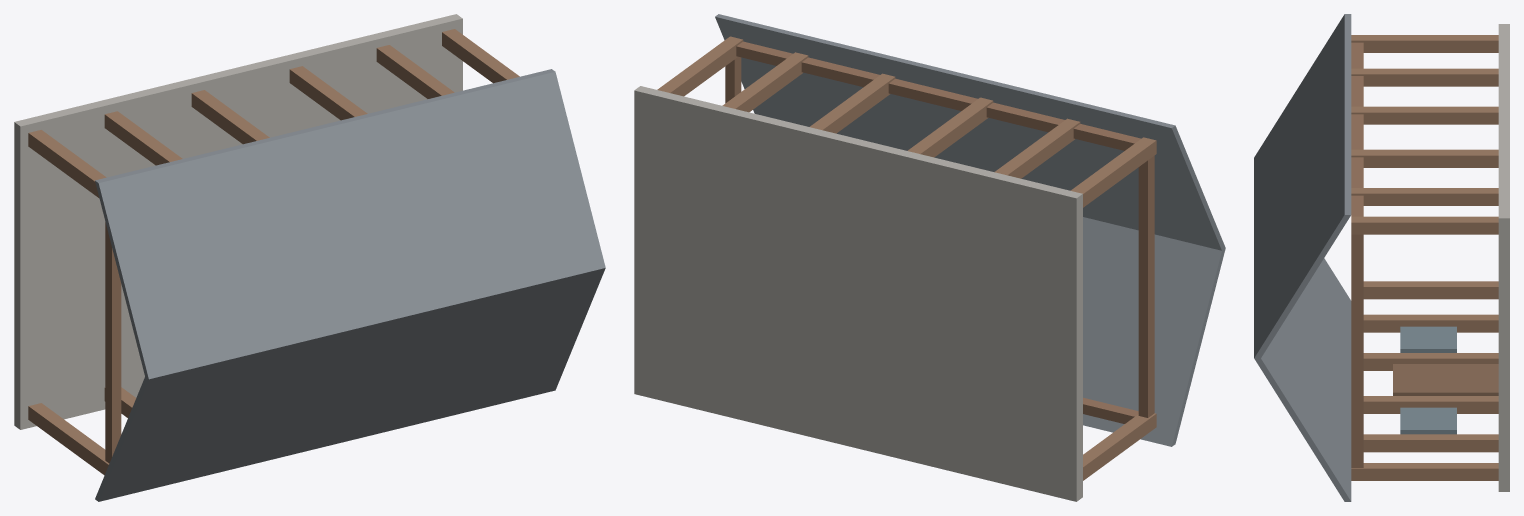
File: t0-minimal-hall.glb
The picture shows the model from 3 angles, left to right: view 1: azimuth 30°, elevation 25°; view 2: azimuth 150°, elevation 25°; view 3: azimuth 270°, elevation 25°; orthographic projection. The views are drawn at different scales.
Visible parts, largest first — view 1: 7a08726d-4c58-507e-b062-44bd3444e713, dca88a6b-3fa1-5032-a8f7-d0e48a7130f9, 22808c68-f9a5-5403-81b5-763d6153800b, e04dfb06-8cb2-50c9-abef-cf4392d55100, cefb7234-6ea7-55f8-901e-8ea649b1e3dc, 18562773-207f-5e1f-8f55-e01d6696855e, 0f3f4255-9b63-5cf9-91e1-c8c61974e583, 3ee26b2f-7891-5bf8-aa5d-fff405e55325, 83faece0-43b7-559b-b9df-a58848f5d487, 51600ed9-f0ff-5fc6-8ba5-32b3fcc620de, 6ead74ea-eae9-5a42-ad6a-a17a79b0c19a; view 2: 22808c68-f9a5-5403-81b5-763d6153800b, 7a08726d-4c58-507e-b062-44bd3444e713, dca88a6b-3fa1-5032-a8f7-d0e48a7130f9, e04dfb06-8cb2-50c9-abef-cf4392d55100, 18562773-207f-5e1f-8f55-e01d6696855e, cefb7234-6ea7-55f8-901e-8ea649b1e3dc, 83faece0-43b7-559b-b9df-a58848f5d487, 6ead74ea-eae9-5a42-ad6a-a17a79b0c19a, 0f3f4255-9b63-5cf9-91e1-c8c61974e583, 3ee26b2f-7891-5bf8-aa5d-fff405e55325, 51600ed9-f0ff-5fc6-8ba5-32b3fcc620de, ca44273e-fe70-5984-b6a3-aaad0492e68c (+5 smaller); view 3: 7a08726d-4c58-507e-b062-44bd3444e713, dca88a6b-3fa1-5032-a8f7-d0e48a7130f9, 22808c68-f9a5-5403-81b5-763d6153800b, d53685d0-2269-58df-97f8-5bcbbfae66a6, 8a9fc849-75e8-52dd-8ca8-6fc4c1eab8d7, 6ead74ea-eae9-5a42-ad6a-a17a79b0c19a, 83faece0-43b7-559b-b9df-a58848f5d487, 3ee26b2f-7891-5bf8-aa5d-fff405e55325, 0f3f4255-9b63-5cf9-91e1-c8c61974e583, d05b4086-7257-5c2b-881e-dcdd8e7e7fdd, cefb7234-6ea7-55f8-901e-8ea649b1e3dc, 5b1eb1e3-5e55-55f3-9622-8e85bf75f314 (+11 smaller).
Boxes of the visible parts, box(x1,y1,x2,y2) form: 7a08726d-4c58-507e-b062-44bd3444e713: box(95, 69, 605, 379); dca88a6b-3fa1-5032-a8f7-d0e48a7130f9: box(95, 268, 605, 501); 22808c68-f9a5-5403-81b5-763d6153800b: box(14, 14, 462, 429); e04dfb06-8cb2-50c9-abef-cf4392d55100: box(105, 222, 121, 463); cefb7234-6ea7-55f8-901e-8ea649b1e3dc: box(28, 403, 109, 475); 18562773-207f-5e1f-8f55-e01d6696855e: box(28, 130, 106, 198); 0f3f4255-9b63-5cf9-91e1-c8c61974e583: box(104, 111, 182, 165); 3ee26b2f-7891-5bf8-aa5d-fff405e55325: box(289, 66, 367, 120); 83faece0-43b7-559b-b9df-a58848f5d487: box(191, 90, 269, 144); 51600ed9-f0ff-5fc6-8ba5-32b3fcc620de: box(376, 45, 454, 98); 6ead74ea-eae9-5a42-ad6a-a17a79b0c19a: box(442, 29, 519, 83); 22808c68-f9a5-5403-81b5-763d6153800b: box(634, 86, 1082, 501); 7a08726d-4c58-507e-b062-44bd3444e713: box(715, 14, 1225, 250); dca88a6b-3fa1-5032-a8f7-d0e48a7130f9: box(1083, 217, 1225, 446); e04dfb06-8cb2-50c9-abef-cf4392d55100: box(1138, 156, 1154, 417); 18562773-207f-5e1f-8f55-e01d6696855e: box(1070, 137, 1156, 207); cefb7234-6ea7-55f8-901e-8ea649b1e3dc: box(1083, 413, 1156, 480); 83faece0-43b7-559b-b9df-a58848f5d487: box(907, 97, 993, 157); 6ead74ea-eae9-5a42-ad6a-a17a79b0c19a: box(657, 36, 743, 96); 0f3f4255-9b63-5cf9-91e1-c8c61974e583: box(994, 118, 1080, 178); 3ee26b2f-7891-5bf8-aa5d-fff405e55325: box(810, 73, 895, 133); 51600ed9-f0ff-5fc6-8ba5-32b3fcc620de: box(722, 52, 808, 112); ca44273e-fe70-5984-b6a3-aaad0492e68c: box(888, 78, 977, 110); 7a08726d-4c58-507e-b062-44bd3444e713: box(1254, 14, 1351, 358); dca88a6b-3fa1-5032-a8f7-d0e48a7130f9: box(1254, 258, 1351, 501); 22808c68-f9a5-5403-81b5-763d6153800b: box(1498, 24, 1509, 491); d53685d0-2269-58df-97f8-5bcbbfae66a6: box(1393, 364, 1498, 395); 8a9fc849-75e8-52dd-8ca8-6fc4c1eab8d7: box(1351, 234, 1363, 467); 6ead74ea-eae9-5a42-ad6a-a17a79b0c19a: box(1351, 216, 1498, 234); 83faece0-43b7-559b-b9df-a58848f5d487: box(1351, 106, 1498, 124); 3ee26b2f-7891-5bf8-aa5d-fff405e55325: box(1351, 149, 1498, 167); 0f3f4255-9b63-5cf9-91e1-c8c61974e583: box(1351, 68, 1498, 86); d05b4086-7257-5c2b-881e-dcdd8e7e7fdd: box(1351, 463, 1498, 480); cefb7234-6ea7-55f8-901e-8ea649b1e3dc: box(1363, 281, 1498, 299); 5b1eb1e3-5e55-55f3-9622-8e85bf75f314: box(1363, 434, 1498, 452).
Bounding box in the file's own units: 12.6 × 8.4 × 6.78.
